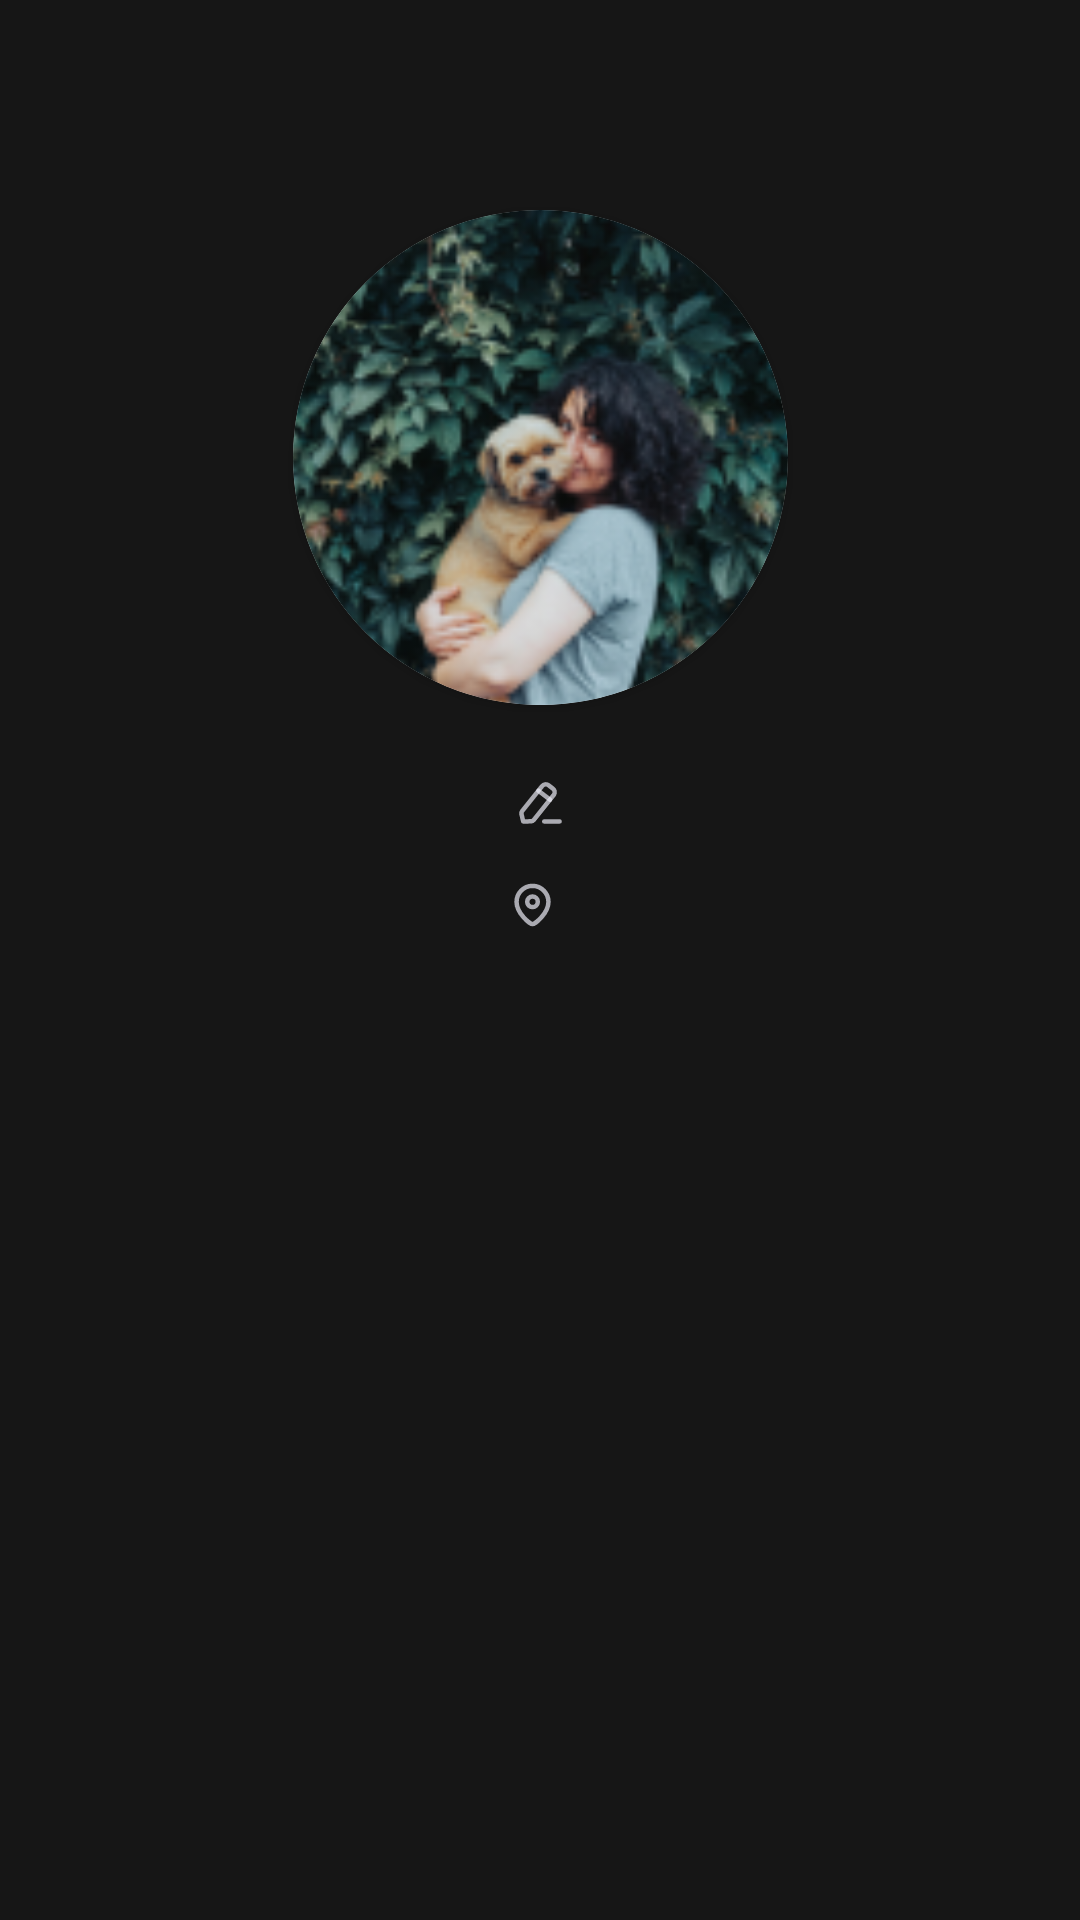

Icons on this 1080px×1920px Android screen, each with its box as box=[x1, y1, x2, y2]:
edit: box=[519, 782, 562, 824]
location: box=[514, 883, 551, 927]
